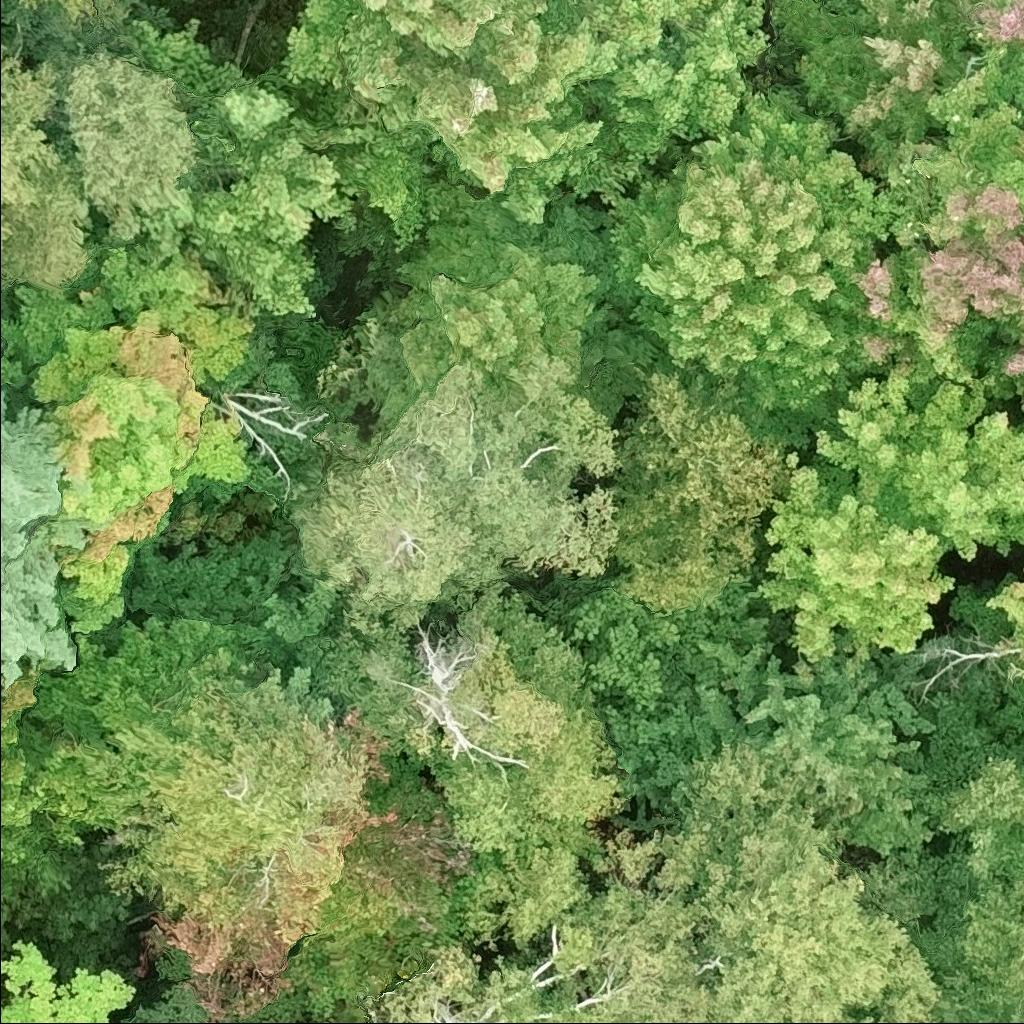crown: (279, 0, 778, 278), (0, 206, 266, 637), (549, 733, 944, 1023), (146, 710, 484, 1023), (605, 88, 879, 445), (409, 582, 668, 950), (350, 183, 666, 440), (96, 647, 370, 928), (126, 21, 354, 324), (843, 46, 1023, 421), (537, 557, 788, 798), (377, 353, 621, 580), (692, 638, 938, 859), (610, 348, 812, 612), (754, 447, 955, 677), (286, 444, 514, 634), (810, 370, 1023, 558), (770, 0, 988, 177), (24, 611, 274, 747), (50, 45, 205, 241), (0, 29, 96, 294), (0, 387, 81, 680), (362, 944, 610, 1023), (0, 663, 72, 901), (914, 867, 1023, 1023), (29, 733, 146, 847), (0, 937, 139, 1023), (980, 565, 1023, 686), (951, 0, 1023, 59), (13, 0, 95, 23), (1014, 415, 1023, 426), (0, 333, 4, 349)
